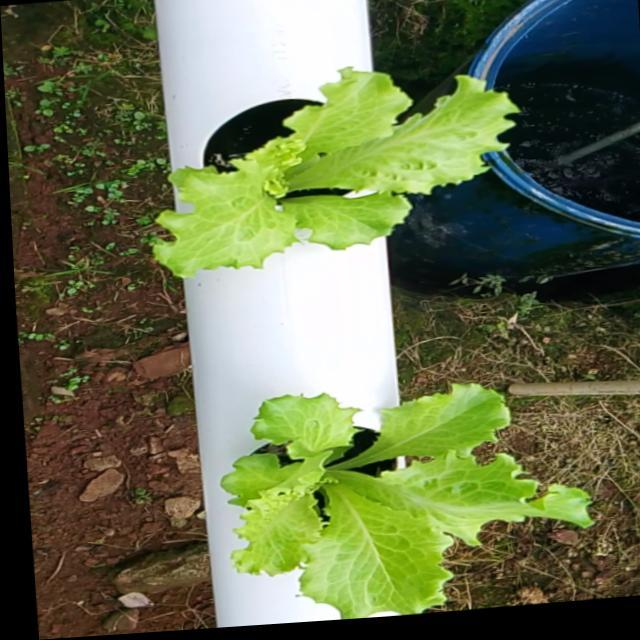Baby: (222, 378, 594, 619), (151, 57, 518, 268)
